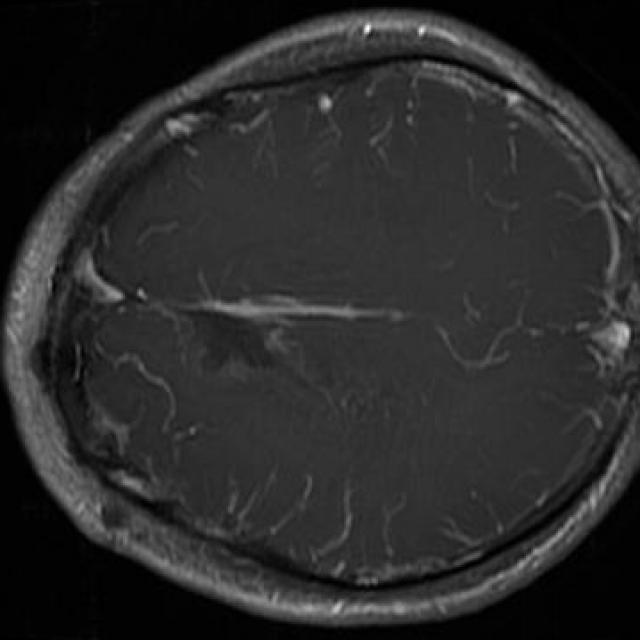glioma: (176, 303, 285, 371)
